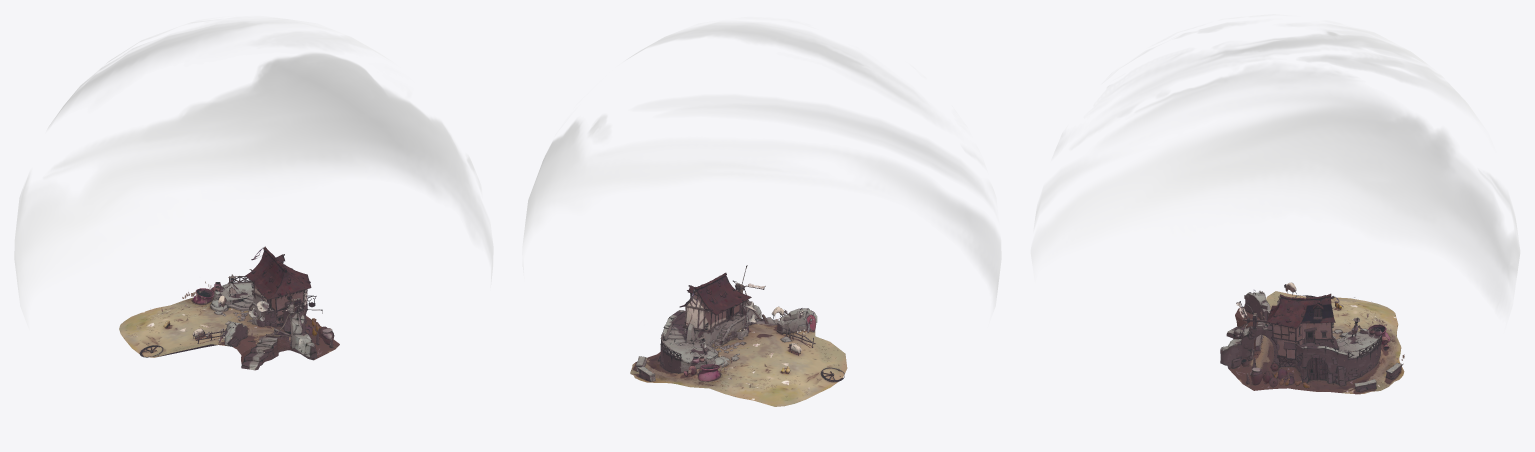
The picture shows the model from 3 angles, left to right: view 1: azimuth 30°, elevation 25°; view 2: azimuth 150°, elevation 25°; view 3: azimuth 270°, elevation 25°; orthographic projection.
Parts seen in each view (by area): view 1: tita, dio; view 2: tita, dio; view 3: tita, dio.
Part boxes in pixels (bbox=[...]): tita: bbox=[14, 16, 493, 327]; dio: bbox=[119, 246, 339, 370]; tita: bbox=[522, 17, 1001, 311]; dio: bbox=[630, 265, 847, 406]; tita: bbox=[1031, 14, 1520, 313]; dio: bbox=[1220, 282, 1404, 394].
Size of what is drawn, in the model's own units: 22.52 by 16.64 by 23.21.
6 materials, 5 textured.
